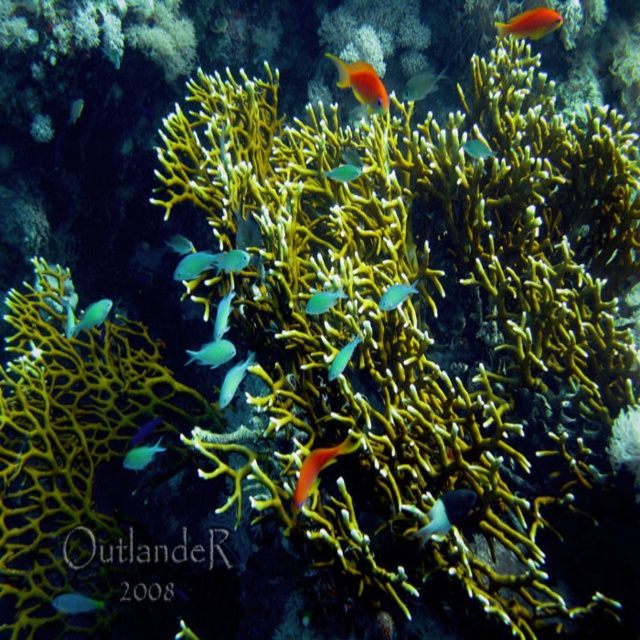Goldfish: (293, 448, 361, 516), (324, 51, 390, 104), (496, 12, 567, 44)
